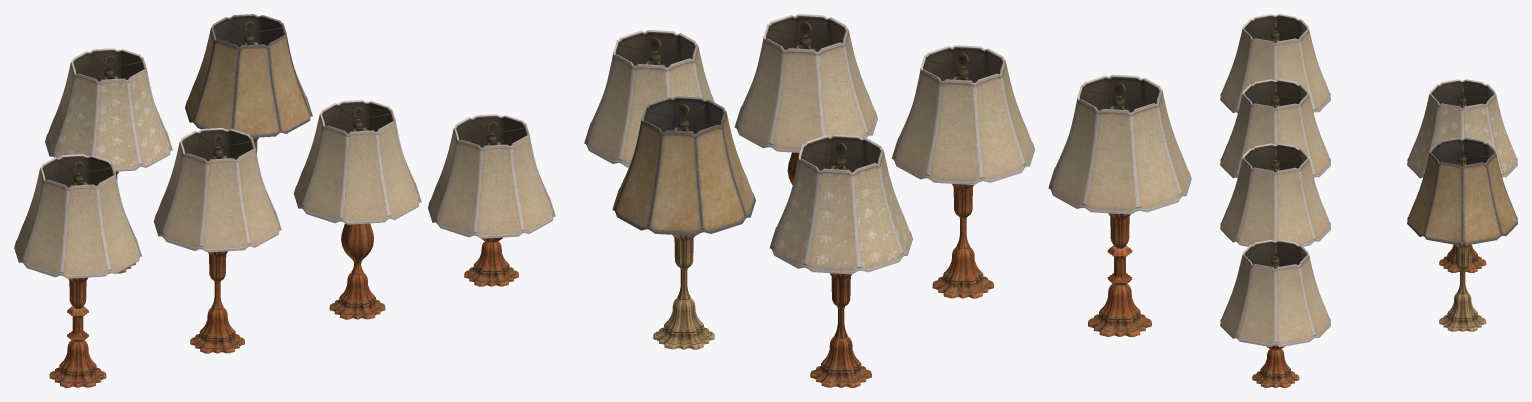
The model's file is 1920s_table_lamps_type_a-transformed.glb.
3 renders of one model, left to right at view 1: azimuth 30°, elevation 25°; view 2: azimuth 150°, elevation 25°; view 3: azimuth 270°, elevation 25°, orthographic. The views are drawn at different scales.
Visible parts, largest first — view 1: Object_4, Object_14, Object_12; view 2: Object_4, Object_14, Object_12; view 3: Object_4, Object_14, Object_12.
Part boxes in pixels (bbox=[...]): Object_4: bbox=[14, 100, 555, 387]; Object_14: bbox=[185, 14, 312, 154]; Object_12: bbox=[45, 48, 172, 273]; Object_4: bbox=[584, 14, 1191, 337]; Object_14: bbox=[612, 96, 755, 349]; Object_12: bbox=[769, 134, 912, 387]; Object_4: bbox=[1220, 14, 1330, 387]; Object_14: bbox=[1407, 138, 1517, 331]; Object_12: bbox=[1407, 79, 1517, 272].
Size of the model in its own units: 2.1 by 0.8272 by 1.2.
3 materials, 3 textured.
